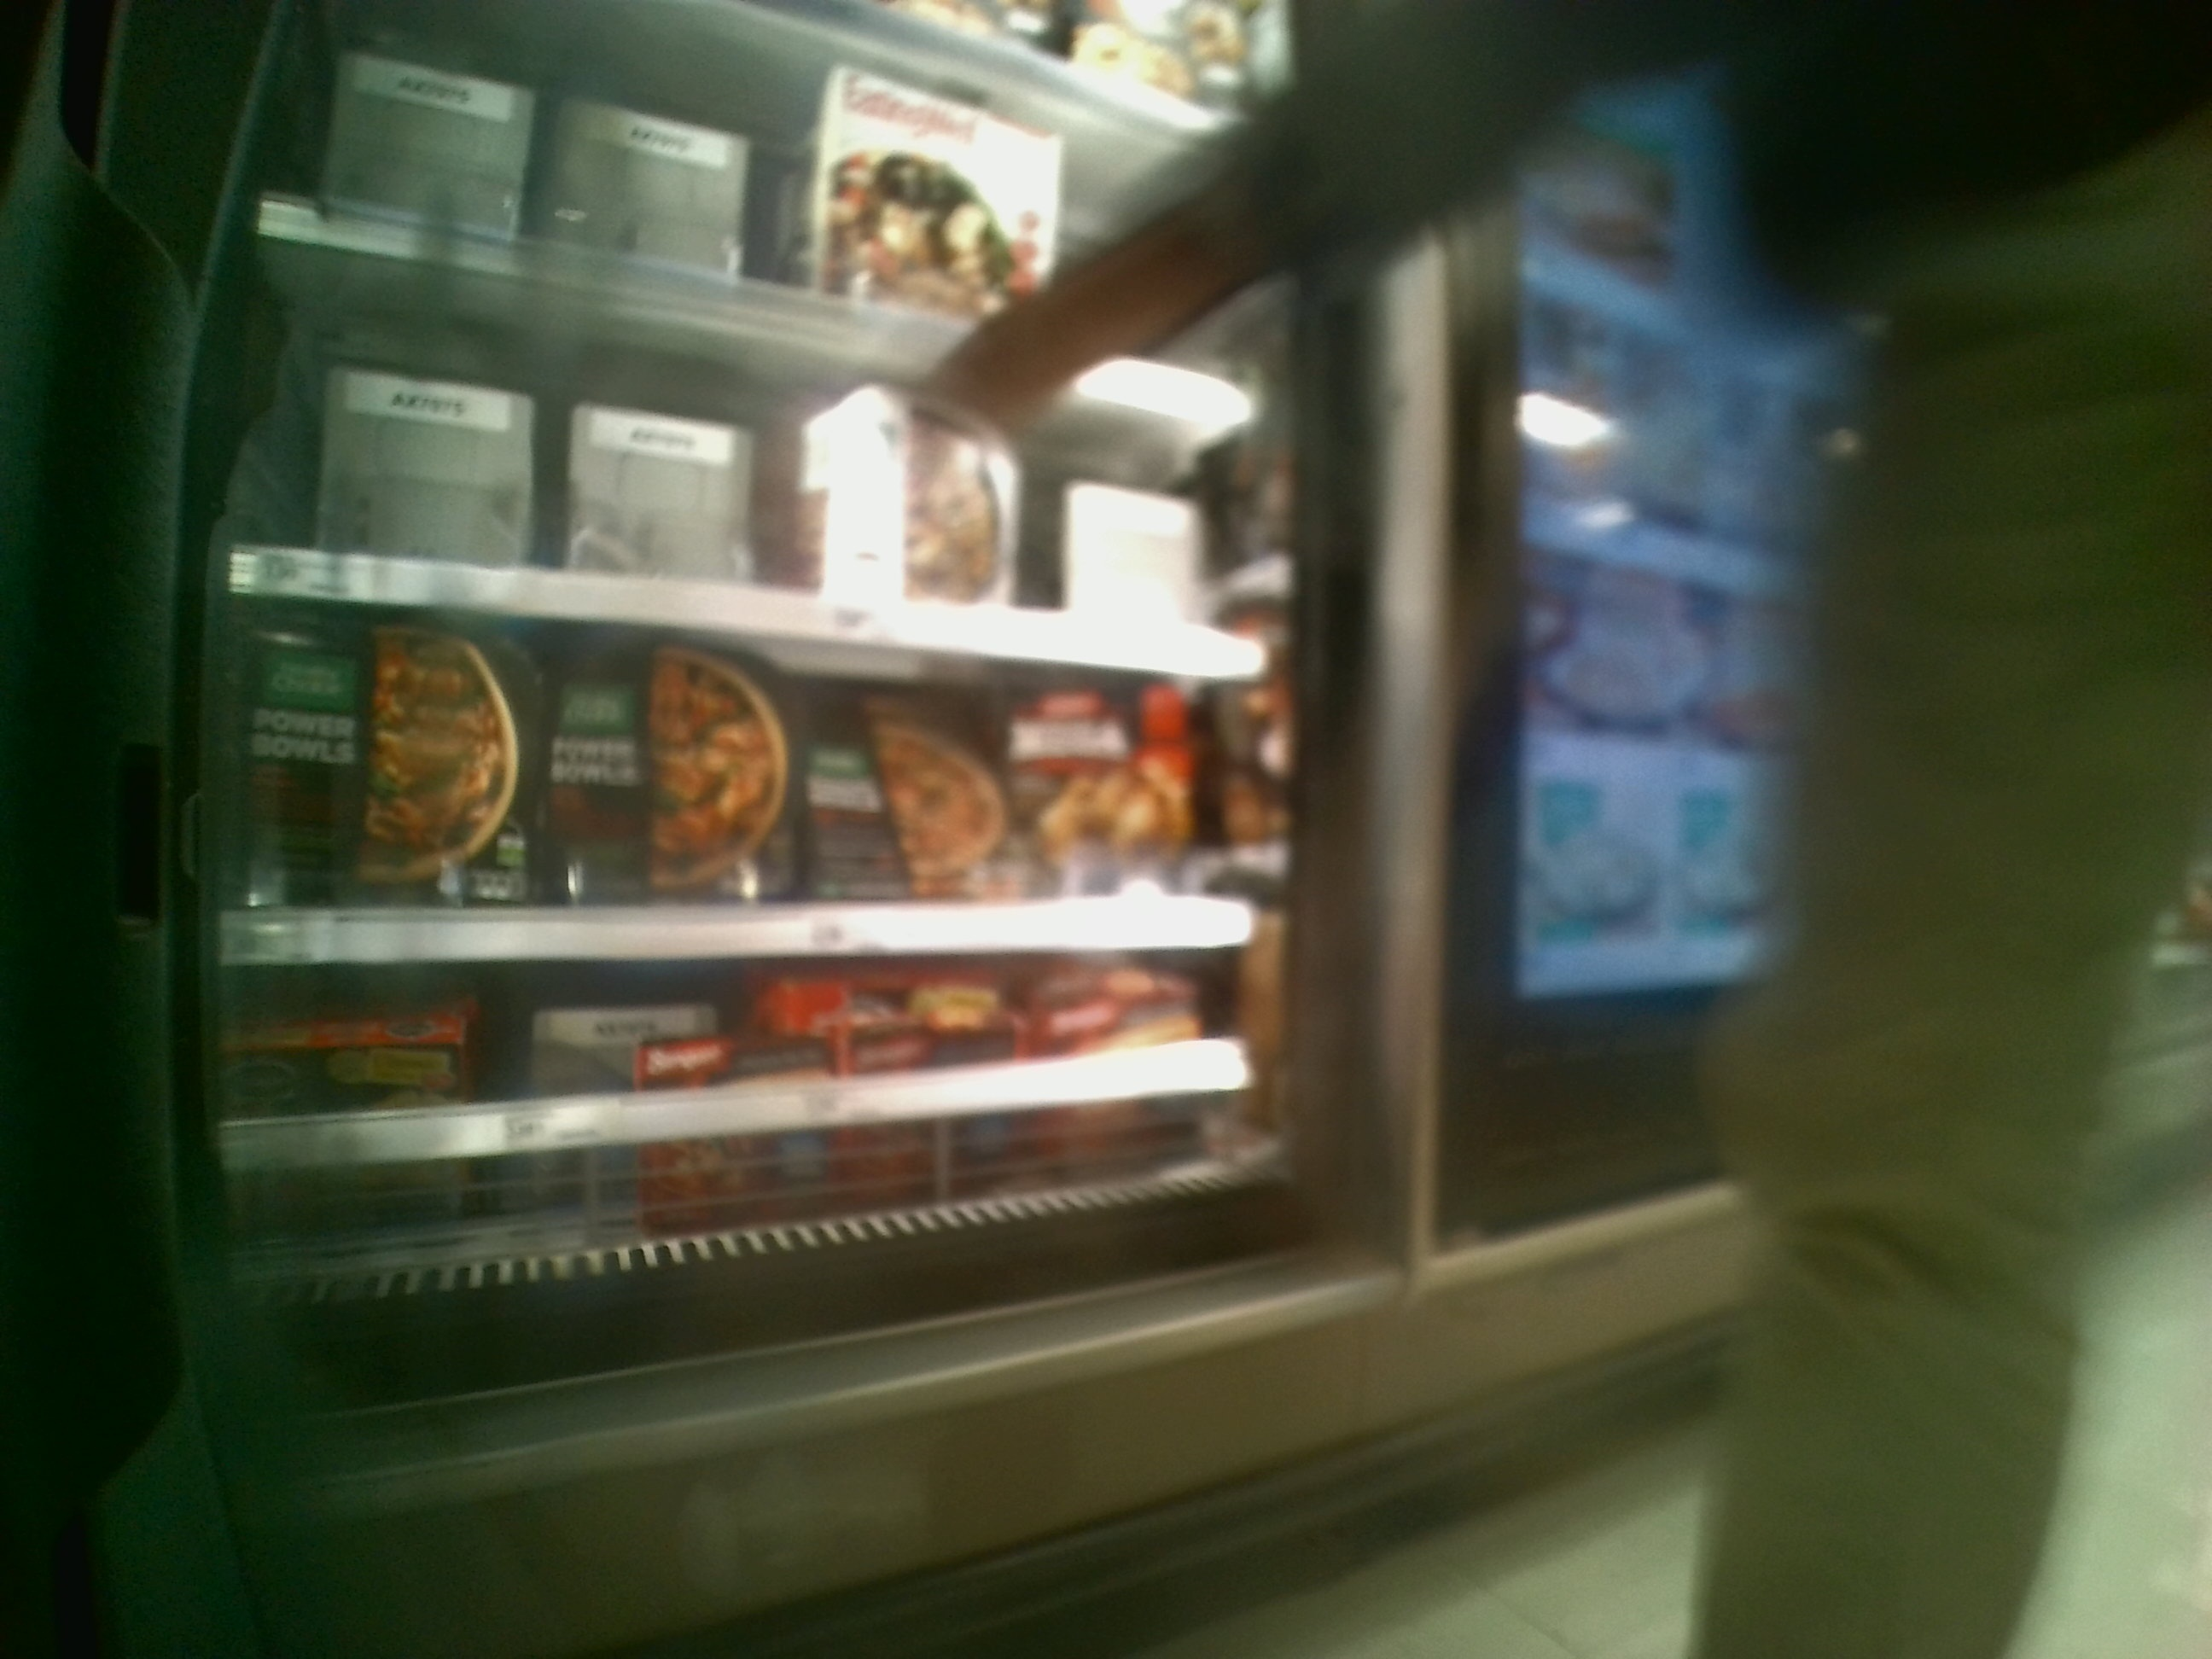shelf: (225, 939, 1292, 1305), (225, 587, 1254, 955)
